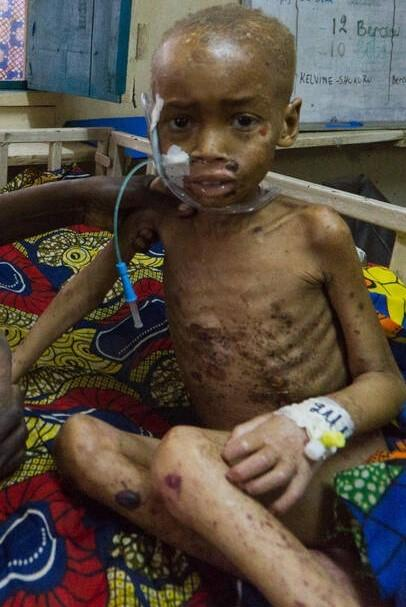Stunting: (117, 15, 328, 225)
